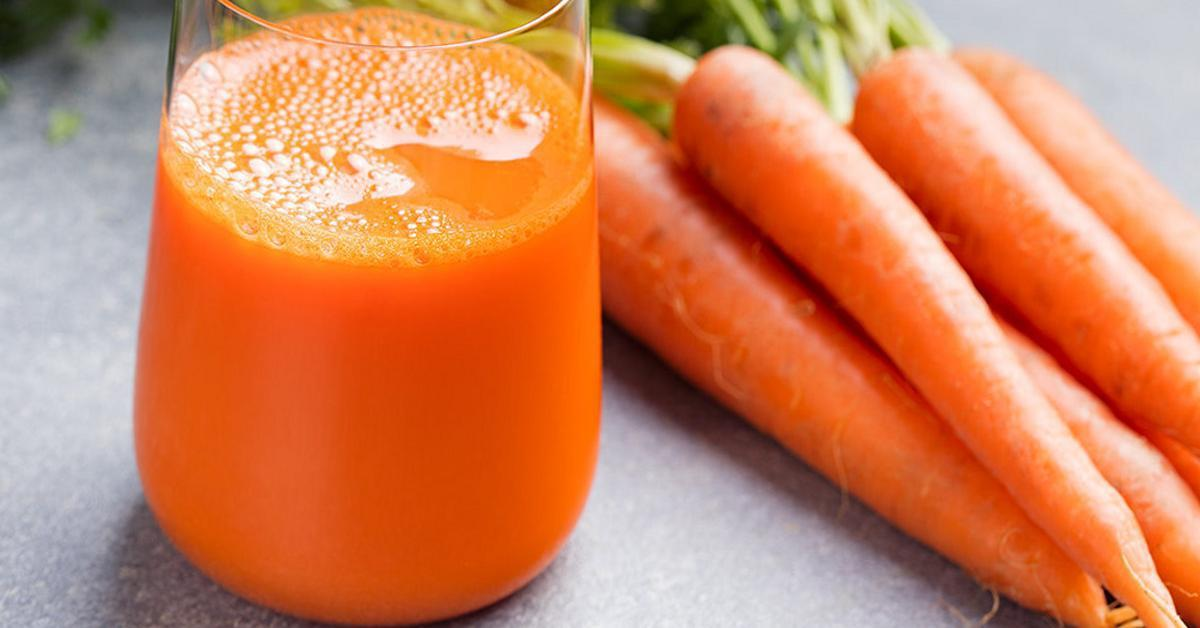carrot: (609, 26, 1200, 626)
